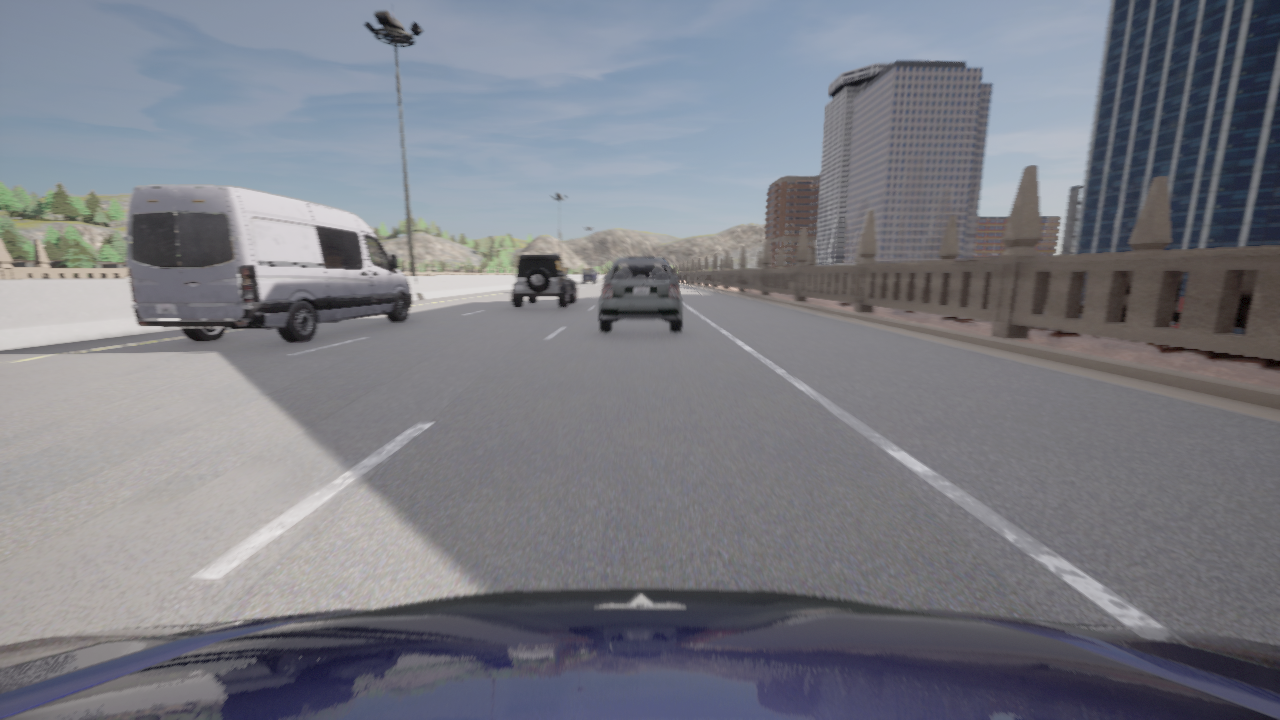cyclist: (0, 588, 1279, 719), (123, 185, 411, 341), (599, 258, 681, 332), (511, 254, 576, 308), (581, 269, 596, 283)
